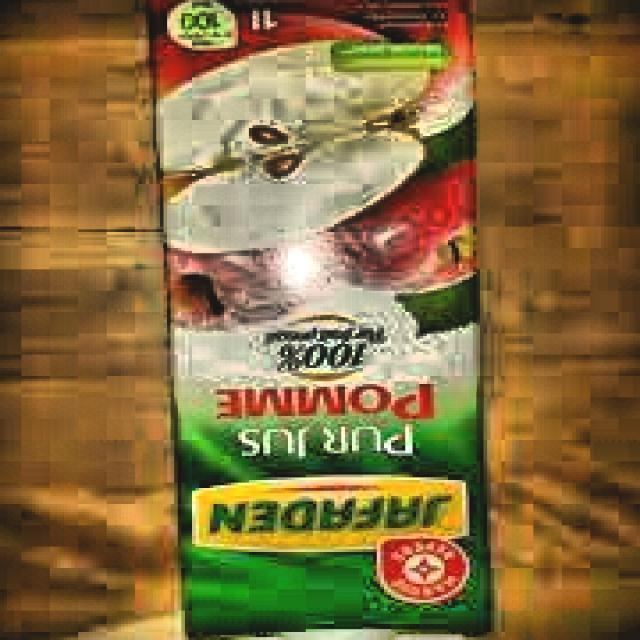cardboard: (146, 0, 498, 640)
